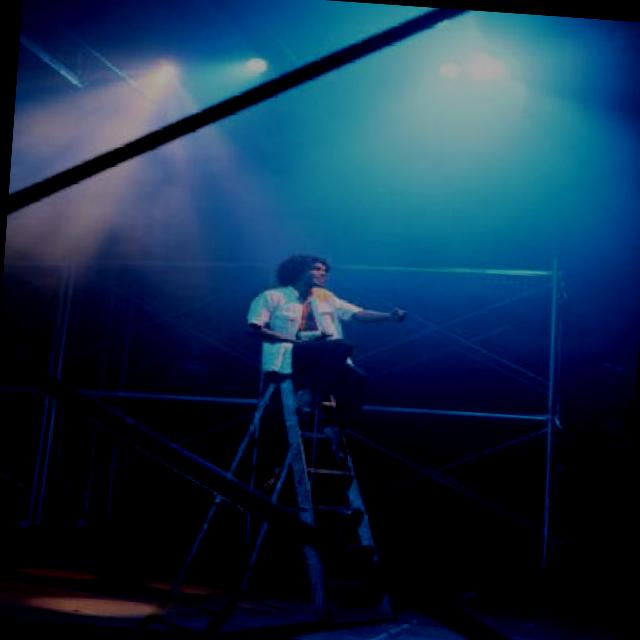Person: (218, 227, 416, 478)
